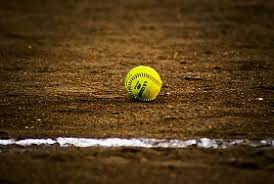tennis_ball: (125, 65, 161, 102)
